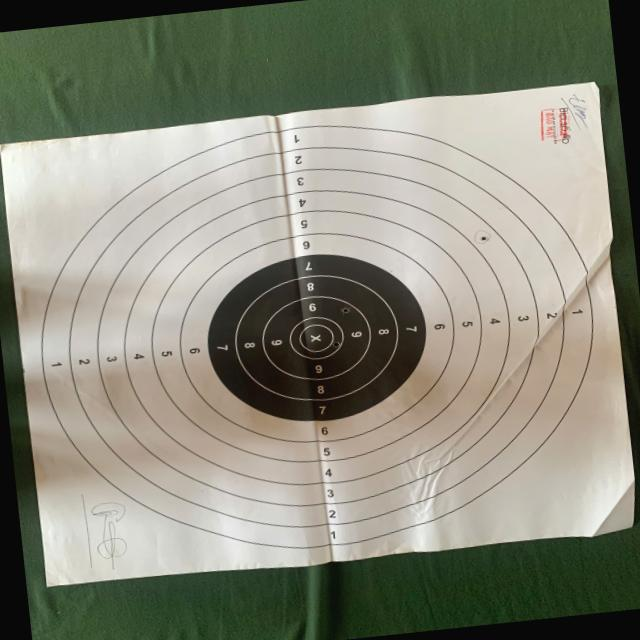bullet: (342, 307, 349, 313), (332, 342, 339, 347), (480, 236, 486, 241)
target: (0, 82, 634, 585)
